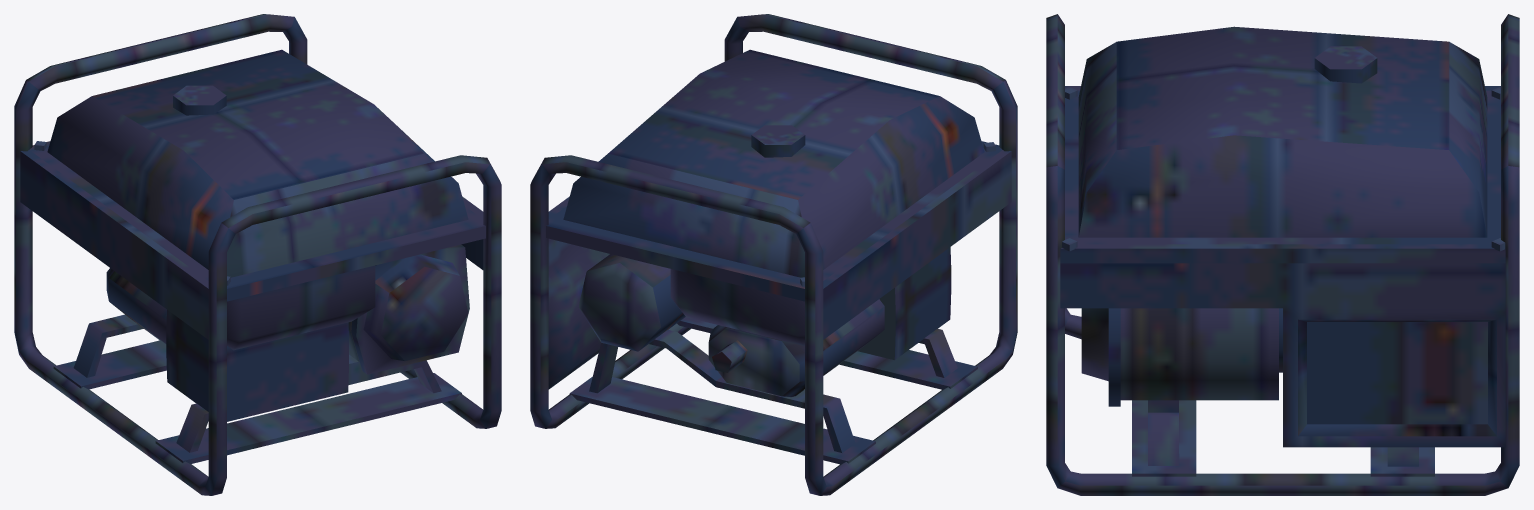
File: Generator.fbx
3 renders of one model, left to right at view 1: azimuth 30°, elevation 25°; view 2: azimuth 150°, elevation 25°; view 3: azimuth 270°, elevation 25°, orthographic. The views are drawn at different scales.
Parts seen in each view (by area): view 1: Generator; view 2: Generator; view 3: Generator.
Part boxes in pixels (box(x1,y1,x2,y2)): Generator: box(14, 14, 501, 495); Generator: box(530, 14, 1017, 495); Generator: box(1046, 14, 1519, 495).
Bounding box in the file's own units: 86.96 × 82.44 × 104.
